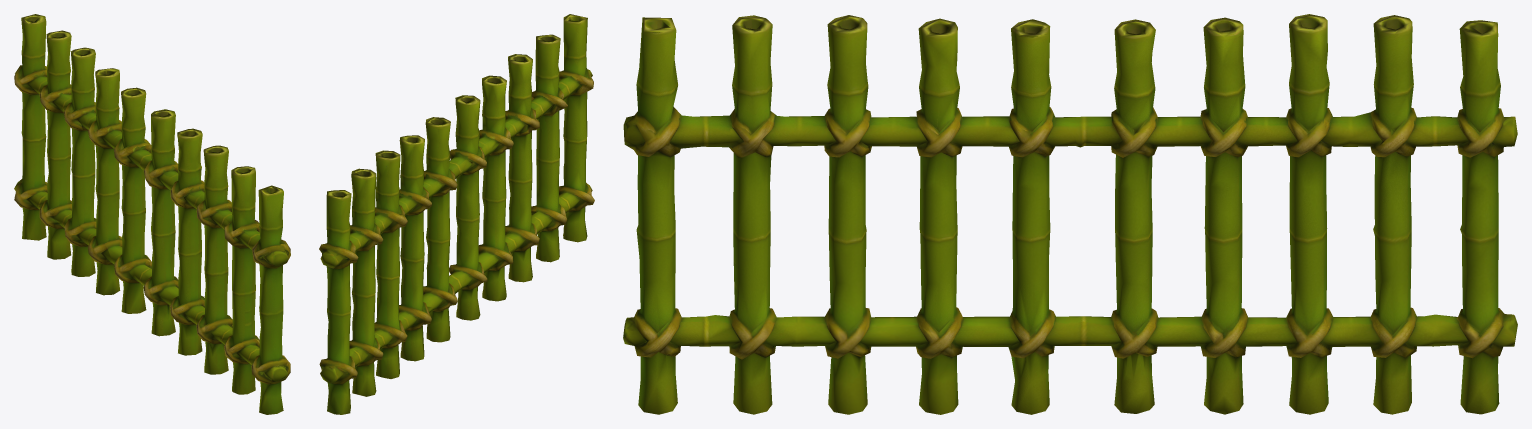
The model's file is fence.glb.
3 views of the same model, side by side, from view 1: azimuth 30°, elevation 25°; view 2: azimuth 150°, elevation 25°; view 3: azimuth 270°, elevation 25° (orthographic). The views are drawn at different scales.
Visible parts, largest first — view 1: tripo_node_bcf2d713-1f77-4b64-a959-80cfd8758954; view 2: tripo_node_bcf2d713-1f77-4b64-a959-80cfd8758954; view 3: tripo_node_bcf2d713-1f77-4b64-a959-80cfd8758954.
Part boxes in pixels (x1,y1,x2,y2): tripo_node_bcf2d713-1f77-4b64-a959-80cfd8758954: [14, 14, 290, 414]; tripo_node_bcf2d713-1f77-4b64-a959-80cfd8758954: [319, 14, 594, 414]; tripo_node_bcf2d713-1f77-4b64-a959-80cfd8758954: [623, 14, 1517, 414].
Size of the model in its own units: 0.0858 by 0.4621 by 0.9818.
Materials: 1 (1 with a texture image).
